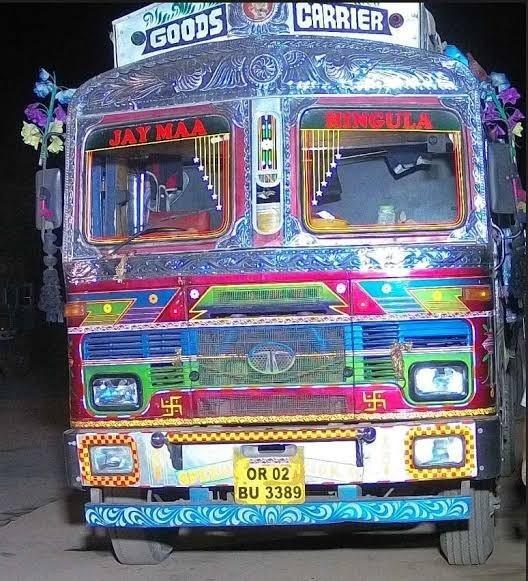License plate: (233, 464, 306, 504)
